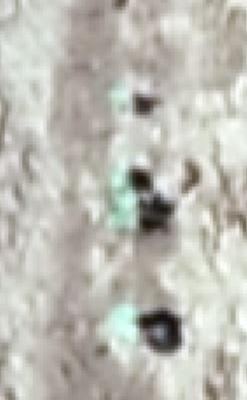cotton: (112, 308, 139, 336), (110, 197, 135, 226), (112, 166, 134, 194), (108, 85, 129, 114)
